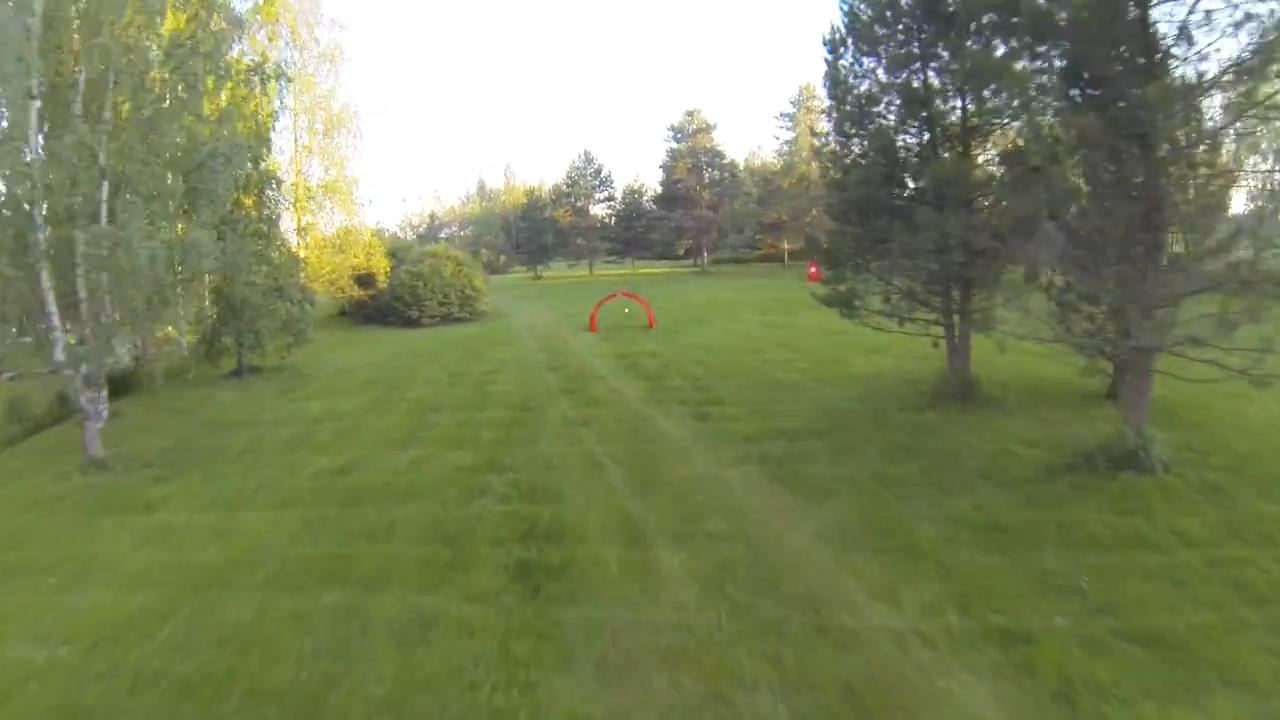gate: (585, 290, 661, 335)
